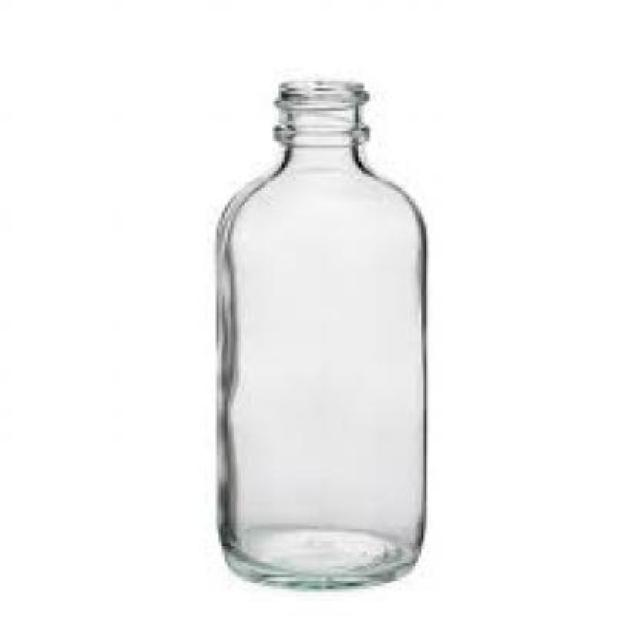kaca: (214, 77, 421, 586)
